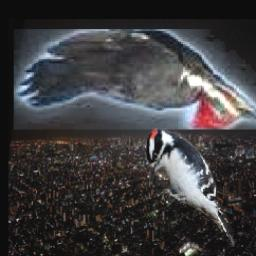Woodpecker: (14, 29, 256, 130), (144, 125, 235, 248)
